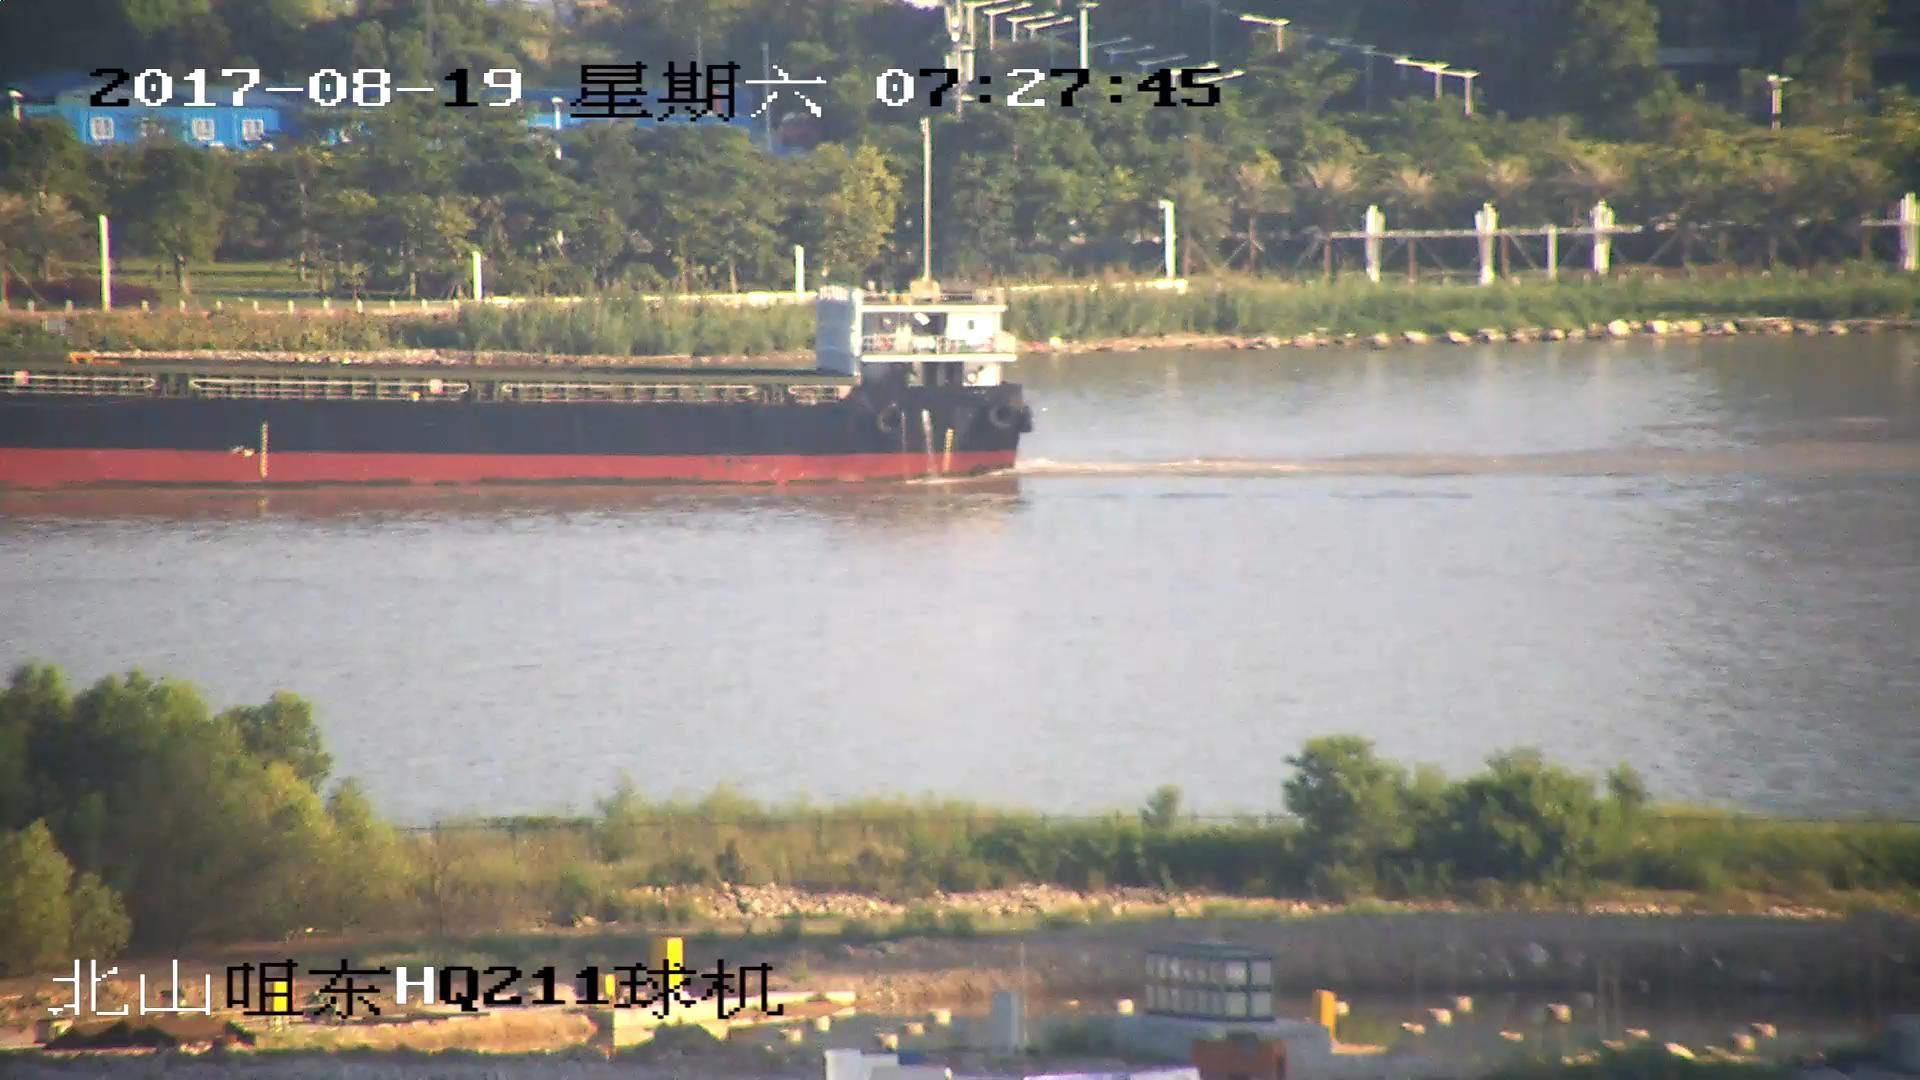Ship: (3, 124, 1040, 493)
